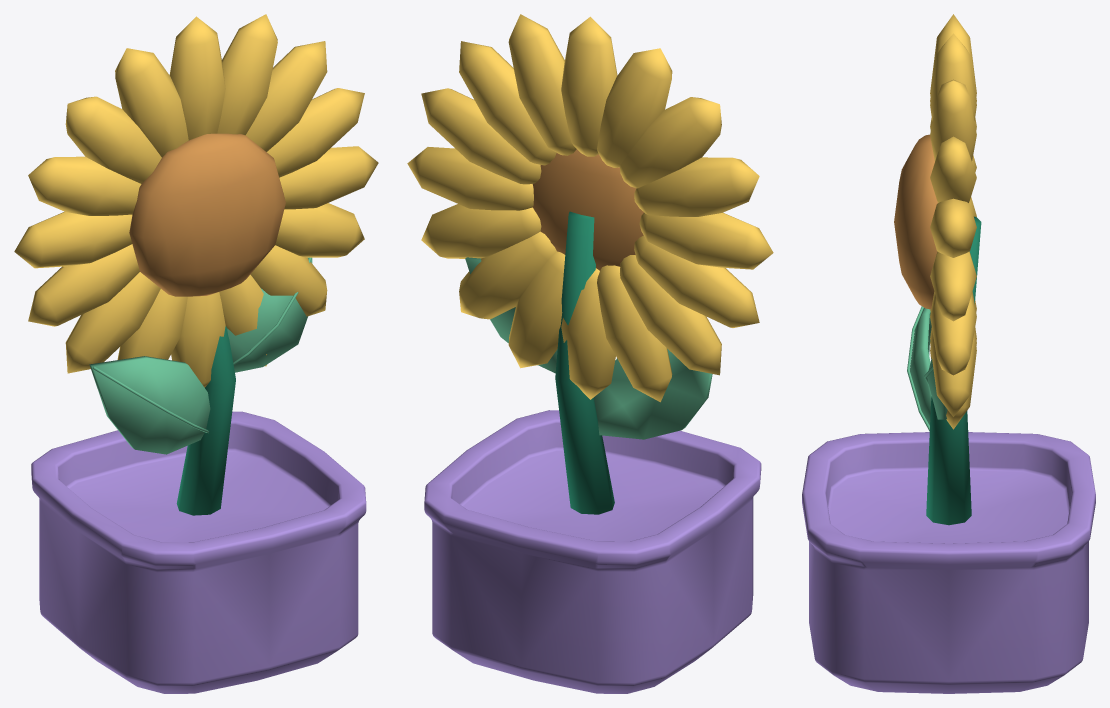
The model's file is SM_S1_Sunflower.fbx.
3 views of the same model, side by side, from view 1: azimuth 30°, elevation 25°; view 2: azimuth 150°, elevation 25°; view 3: azimuth 270°, elevation 25° (orthographic).
Parts seen in each view (by area): view 1: SM_S1_Sunflower; view 2: SM_S1_Sunflower; view 3: SM_S1_Sunflower.
Boxes of the visible parts, bbox=[...] form: SM_S1_Sunflower: bbox=[14, 14, 378, 693]; SM_S1_Sunflower: bbox=[407, 14, 773, 693]; SM_S1_Sunflower: bbox=[802, 14, 1095, 693].
Bounding box in the file's own units: 0.4306 × 0.7 × 0.3039.
